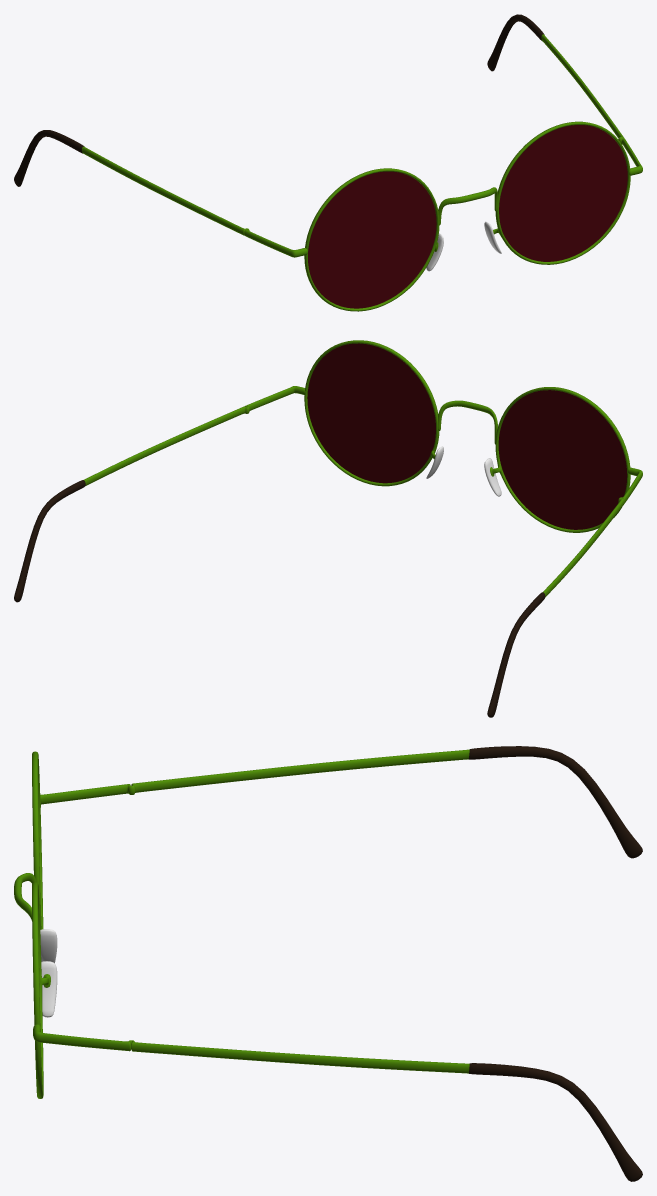
Rendered from sunglasses2.fbx.
The picture shows the model from 3 angles, top to bottom: view 1: azimuth 30°, elevation 25°; view 2: azimuth 150°, elevation 25°; view 3: azimuth 270°, elevation 25°; orthographic projection. The views are drawn at different scales.
Parts seen in each view (by area): view 1: Cylinder.002, Cube.001, Cylinder.001, Cylinder.003; view 2: Cylinder.002, Cube.001, Cylinder.001, Cylinder.003; view 3: Cube.001, Cylinder.001, Cylinder.003.
Boxes of the visible parts, x1=… form: Cylinder.002: x1=308, y1=125, x2=627, y2=308; Cube.001: x1=14, y1=14, x2=642, y2=257; Cylinder.001: x1=304, y1=121, x2=630, y2=311; Cylinder.003: x1=426, y1=221, x2=501, y2=271; Cylinder.002: x1=307, y1=343, x2=627, y2=529; Cube.001: x1=14, y1=386, x2=642, y2=717; Cylinder.001: x1=304, y1=340, x2=630, y2=532; Cylinder.003: x1=426, y1=446, x2=501, y2=496; Cube.001: x1=14, y1=746, x2=642, y2=1181; Cylinder.001: x1=32, y1=751, x2=50, y2=1098; Cylinder.003: x1=40, y1=929, x2=57, y2=1017.
Bounding box in the file's own units: 152 × 42.52 × 123.
